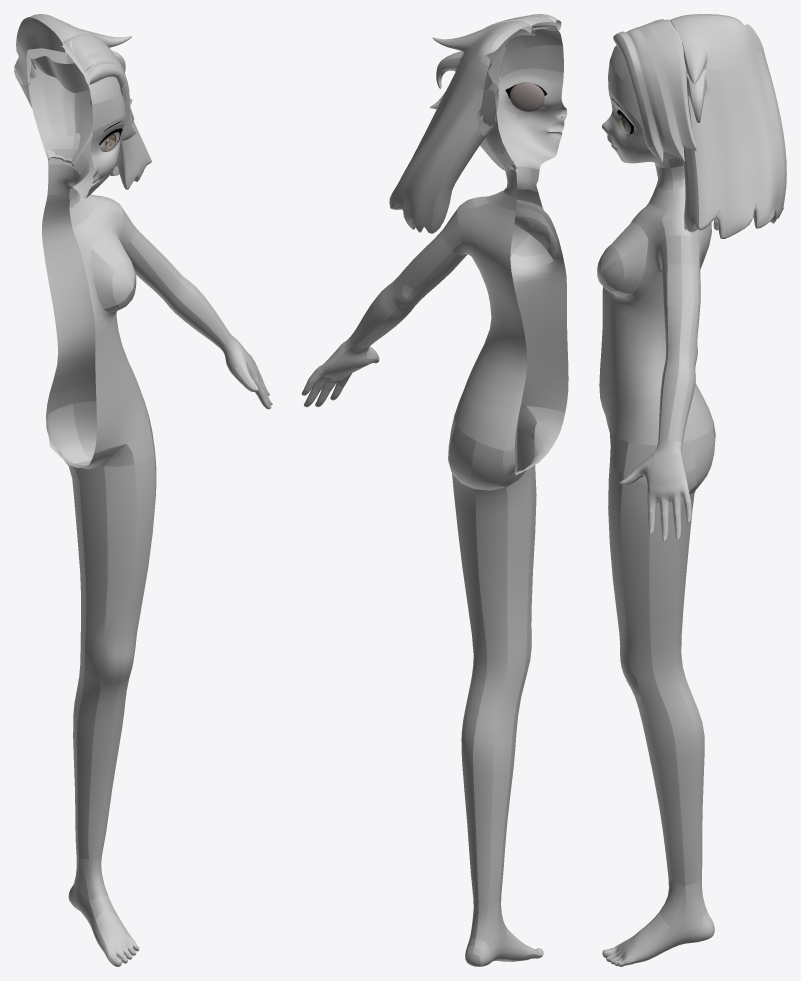
The model's file is corpse.fbx.
The picture shows the model from 3 angles, left to right: view 1: azimuth 30°, elevation 25°; view 2: azimuth 150°, elevation 25°; view 3: azimuth 270°, elevation 25°; orthographic projection. The views are drawn at different scales.
Parts seen in each view (by area): view 1: bod, pasted__back_hair, pasted__bh, pasted__frontHair; view 2: bod, pasted__back_hair, pasted__bh, pasted__frontHair, pasted__pSphere1; view 3: bod, pasted__back_hair, pasted__frontHair.
Boxes of the visible parts, x1,y1,x2,y2 form: bod: [42, 40, 272, 966]; pasted__back_hair: [14, 14, 151, 189]; pasted__bh: [26, 48, 92, 166]; pasted__frontHair: [60, 34, 136, 140]; bod: [301, 19, 568, 966]; pasted__back_hair: [389, 21, 535, 233]; pasted__bh: [478, 89, 517, 171]; pasted__frontHair: [430, 14, 561, 109]; pasted__pSphere1: [509, 82, 544, 111]; bod: [597, 19, 715, 966]; pasted__back_hair: [670, 14, 786, 238]; pasted__frontHair: [613, 19, 697, 162].
Bounding box in the file's own units: 4.38 × 18.03 × 3.32.
